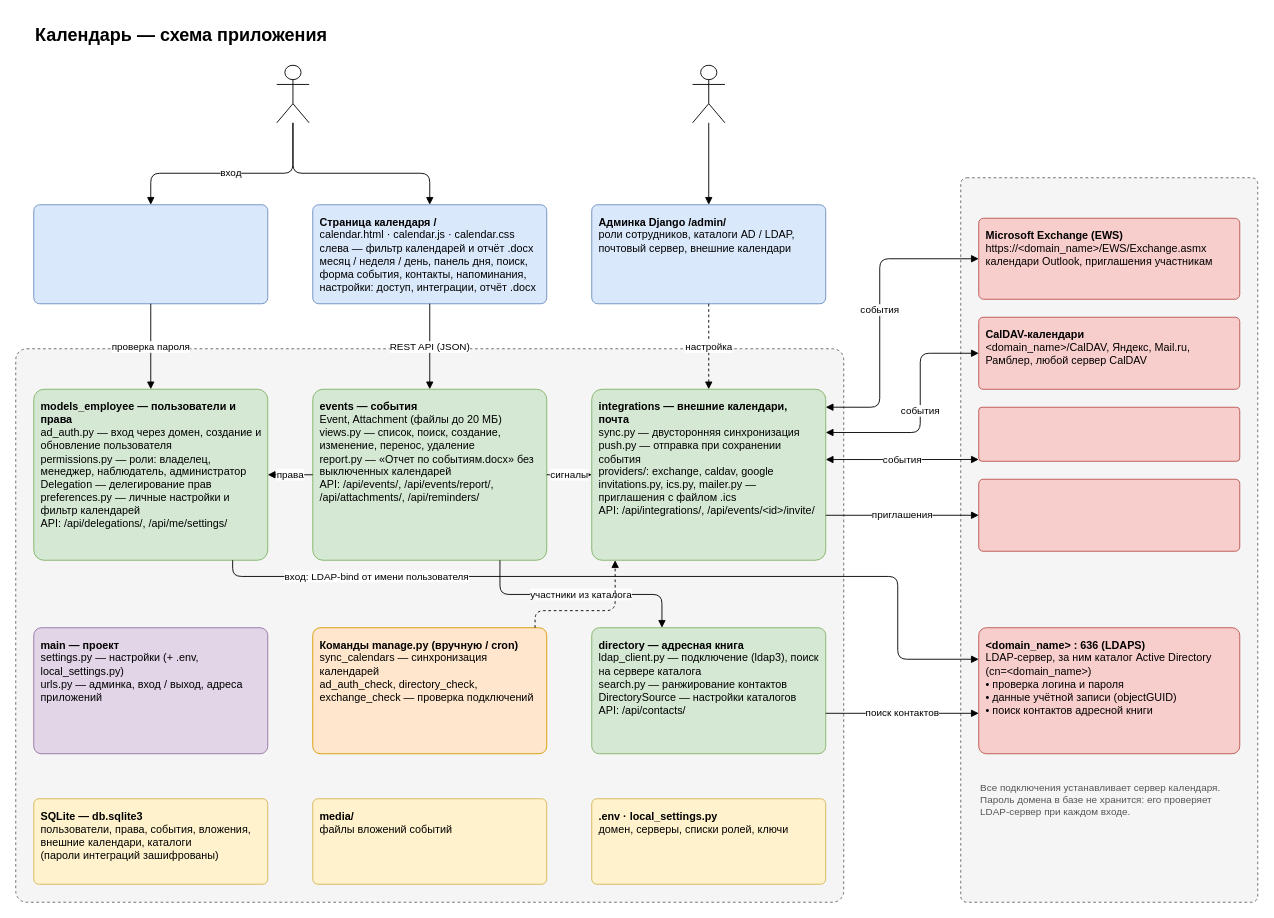
Some shapes in this 1274 by 918 pixel diagram are drawn without their labels. The box of each missing label's shape, as (x1, y1, x2, y2) in pixels:
Django-приложение (проект main · Python 3.11 · Django 5.2): (15, 348, 844, 902)
Google Calendar OAuth 2.0 + Calendar API: (978, 406, 1240, 461)
Администратор (браузер): (692, 64, 725, 123)
Внешние системы: (960, 177, 1258, 902)
Почтовый сервер (SMTP) <domain_name> : 587, StartTLS письма-приглашения с .ics: (978, 478, 1240, 551)
Сотрудник (браузер): (276, 64, 309, 123)
Страница входа /accounts/login/ доменные логин и пароль: (33, 204, 268, 304)
